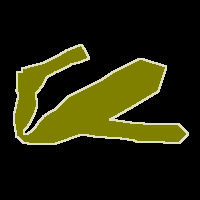tie: (14, 44, 188, 144)
